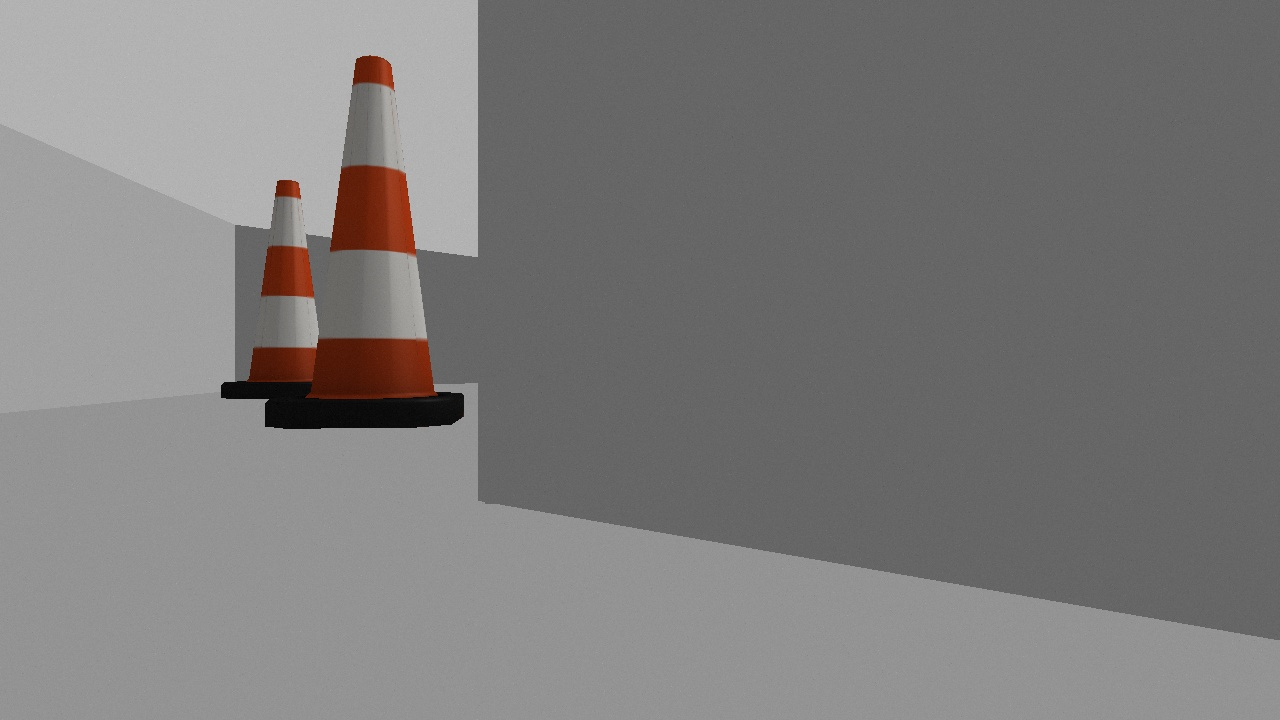barricade: (256, 51, 473, 440), (214, 178, 352, 398)
